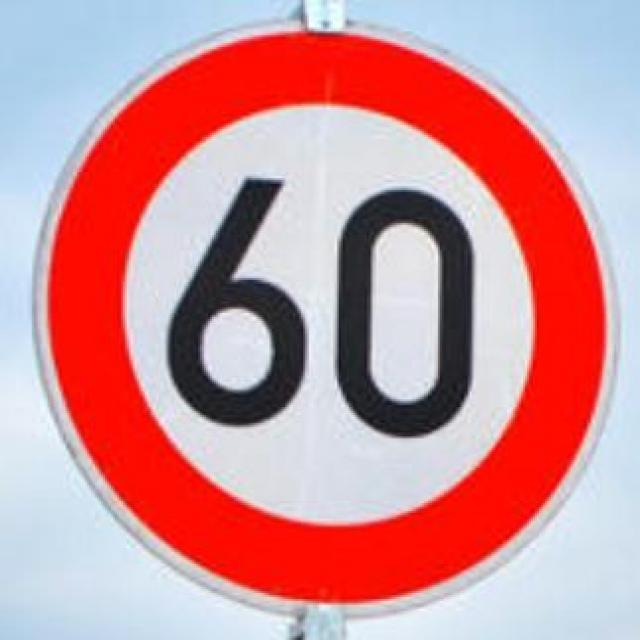speed limit 60: (32, 20, 622, 616)
